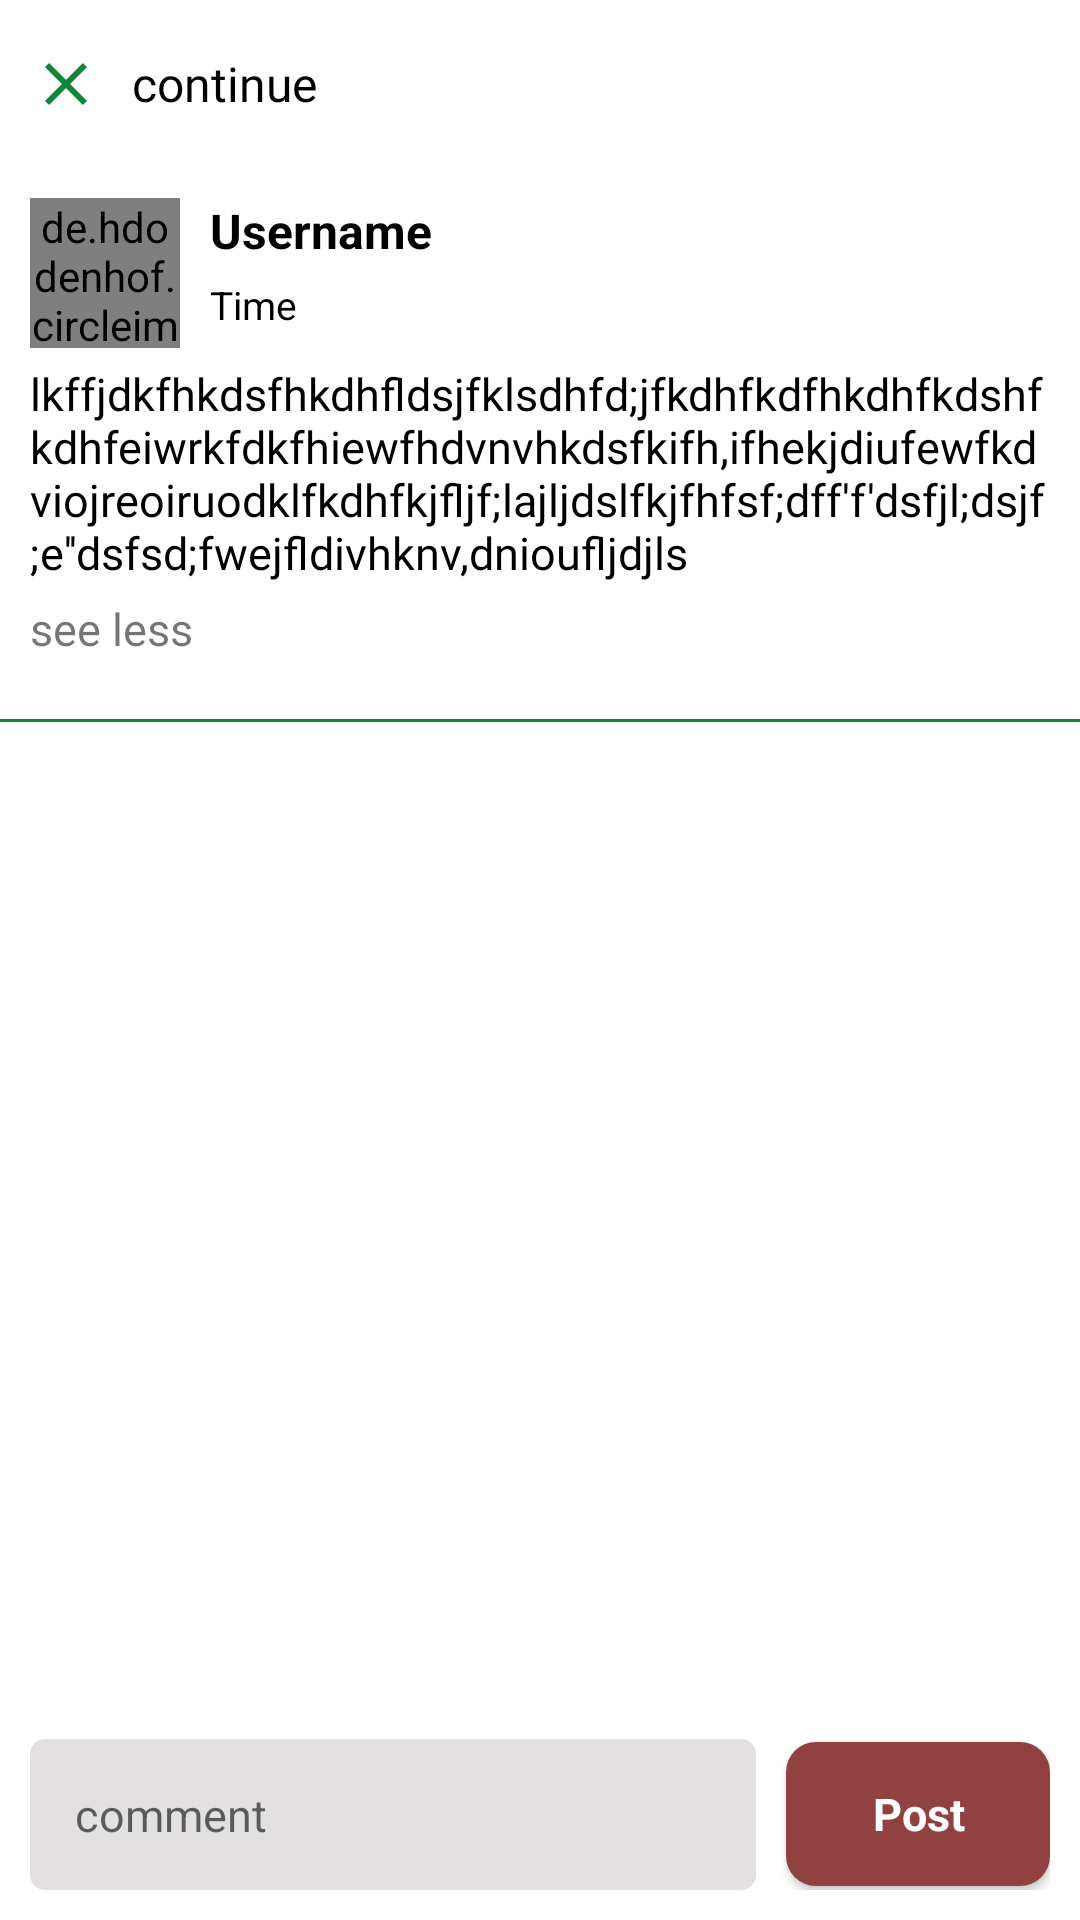

Icon bounding boxes for this 1080px x 1920px phone screenshot, format (x1, y1, x2, y2):
close: (45, 63, 87, 105)
